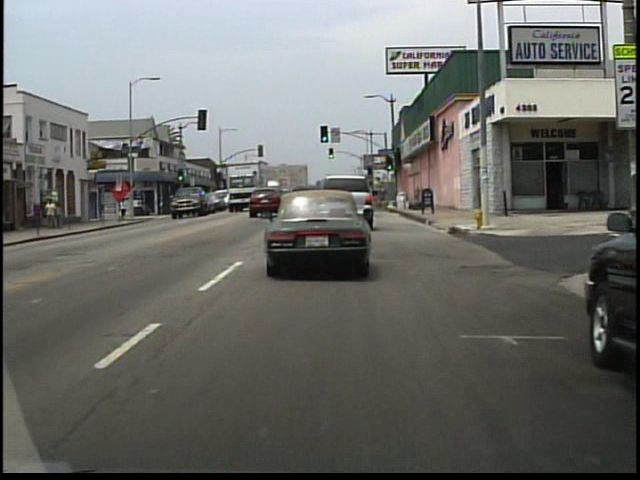person: (47, 196, 58, 228), (58, 202, 68, 230), (119, 199, 130, 222)
